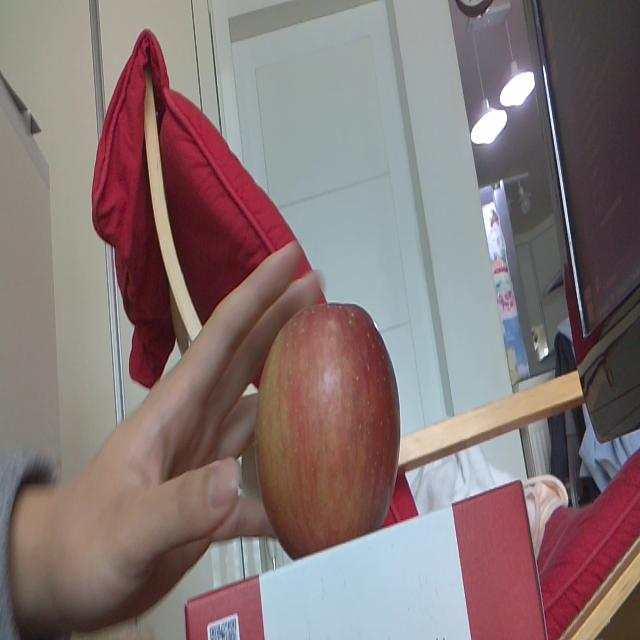apple: (252, 302, 400, 540)
